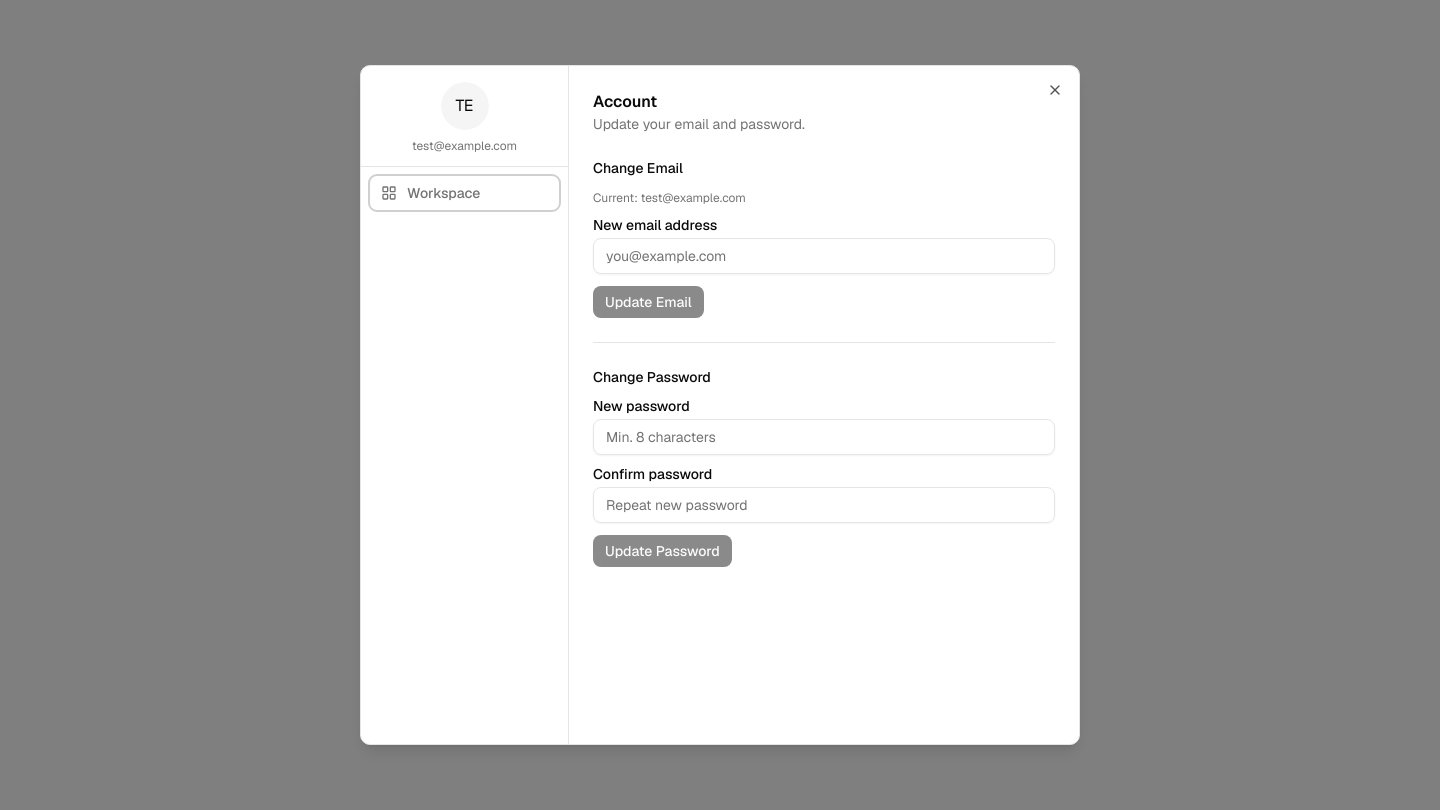
AccountSettingsModal — password change › shows success message after password update
Expected: the dialog is shown, [360, 65, 1080, 745]
Type "newpassword123" into the password field with placeholder "Min. 8 characters" at (824, 437), box [593, 419, 1055, 455]
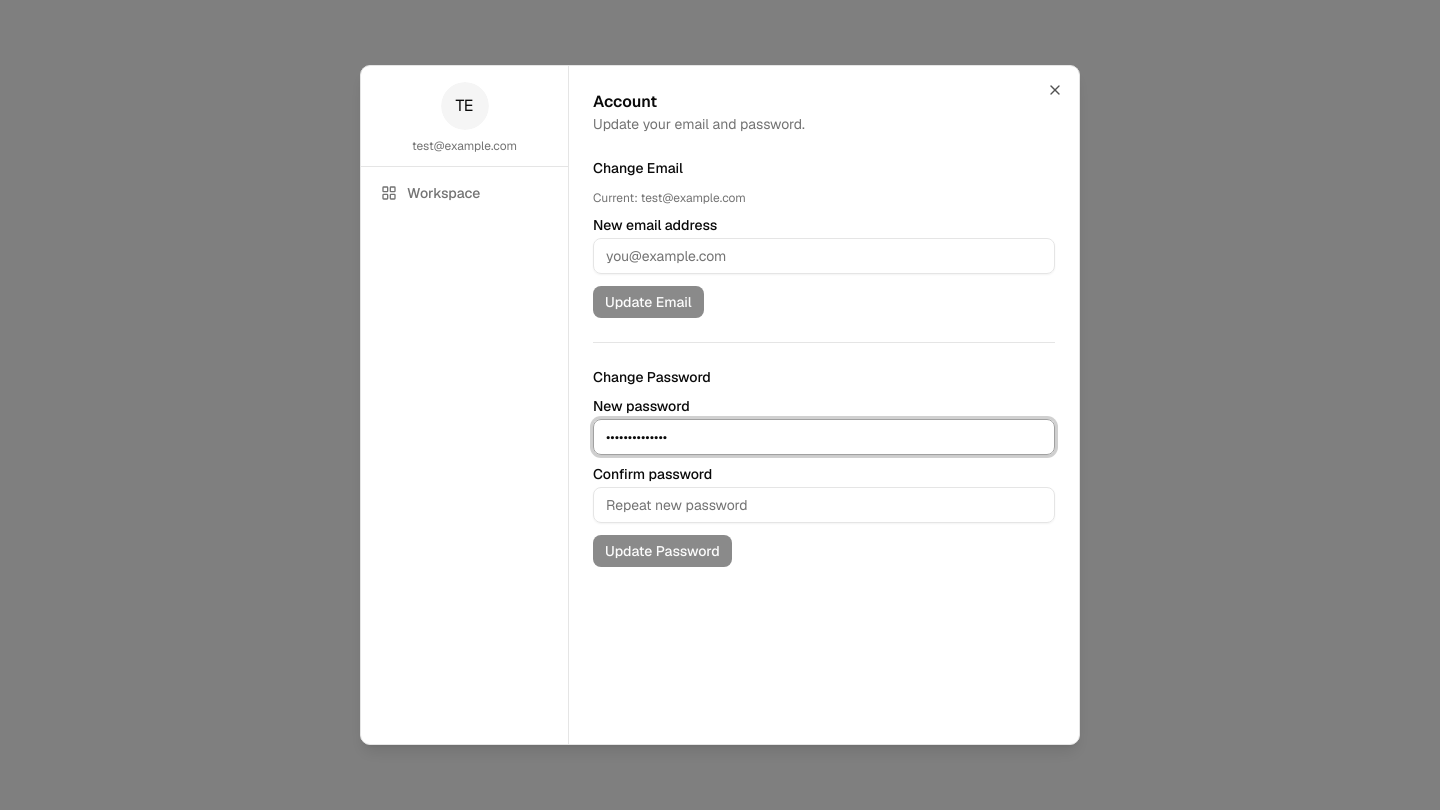
Type "newpassword123" into the password field with placeholder "Repeat new password" at (824, 505), box [593, 487, 1055, 523]
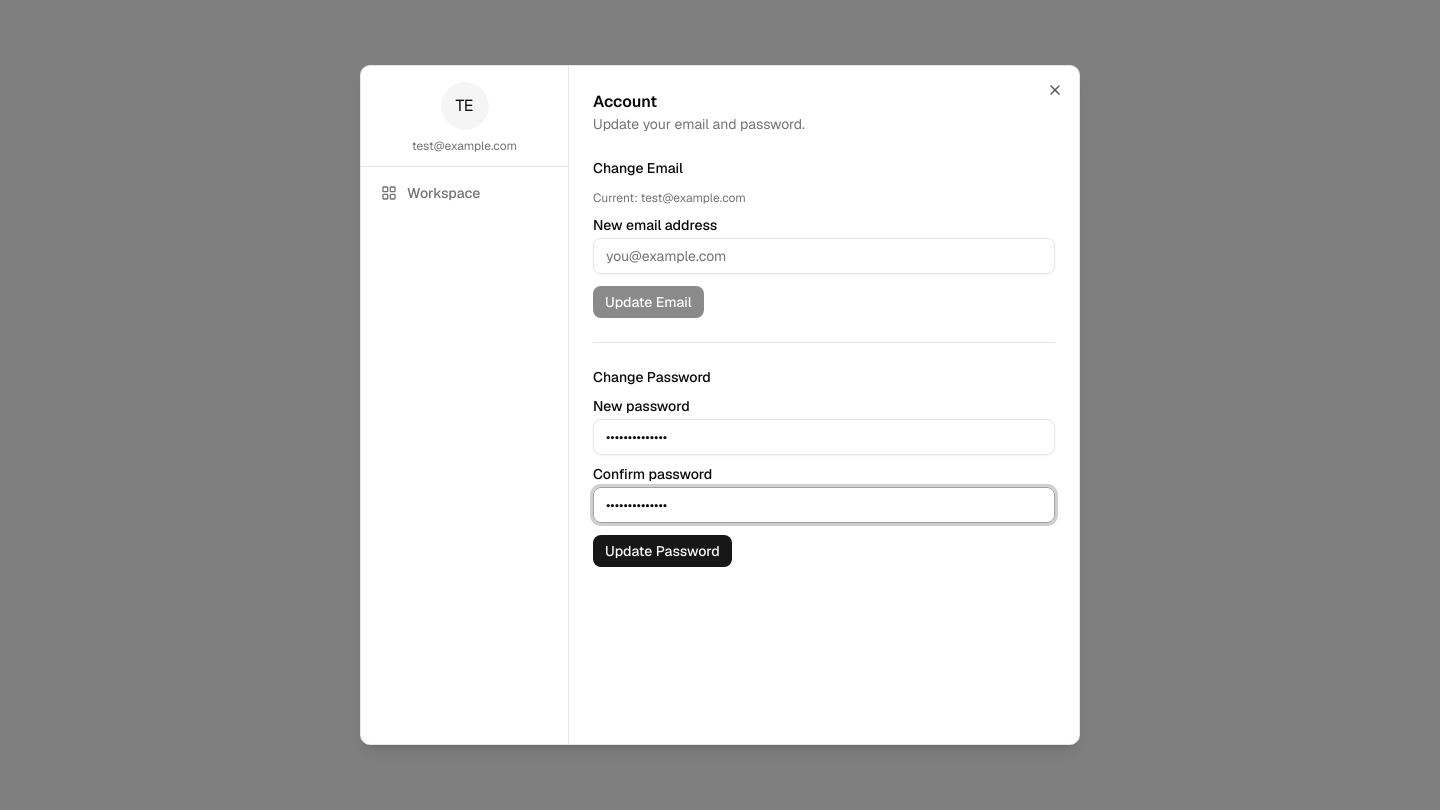
Submit the form that starts with "Change Password", box [593, 367, 1055, 567]
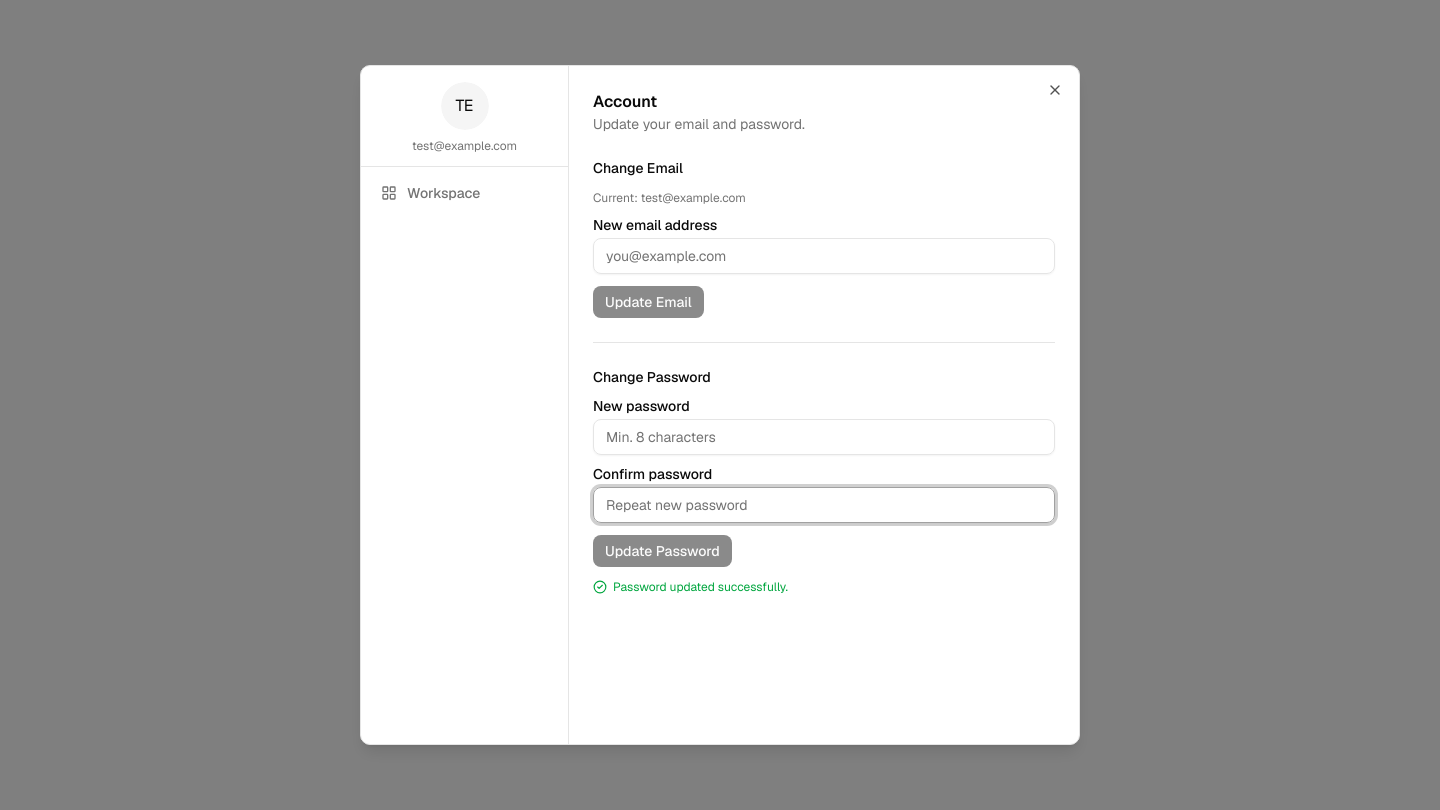
Result: the text "Password updated successfully." is shown at [593, 579, 788, 595]
